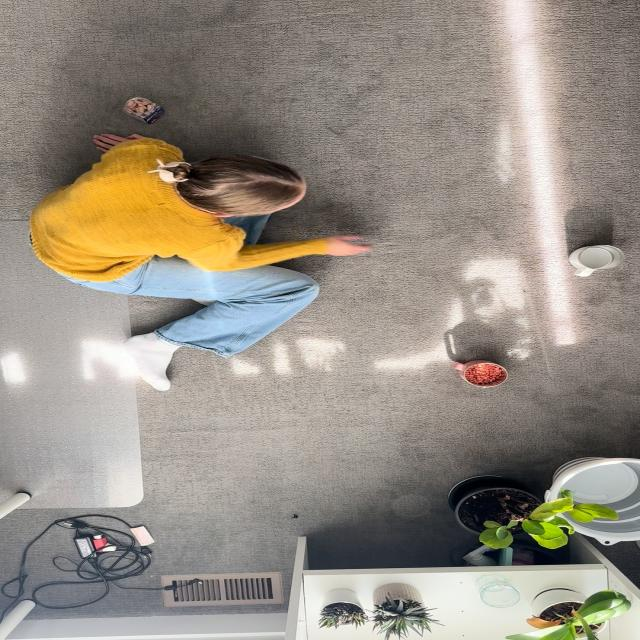IBC: (569, 245, 623, 277), (451, 360, 507, 388)
